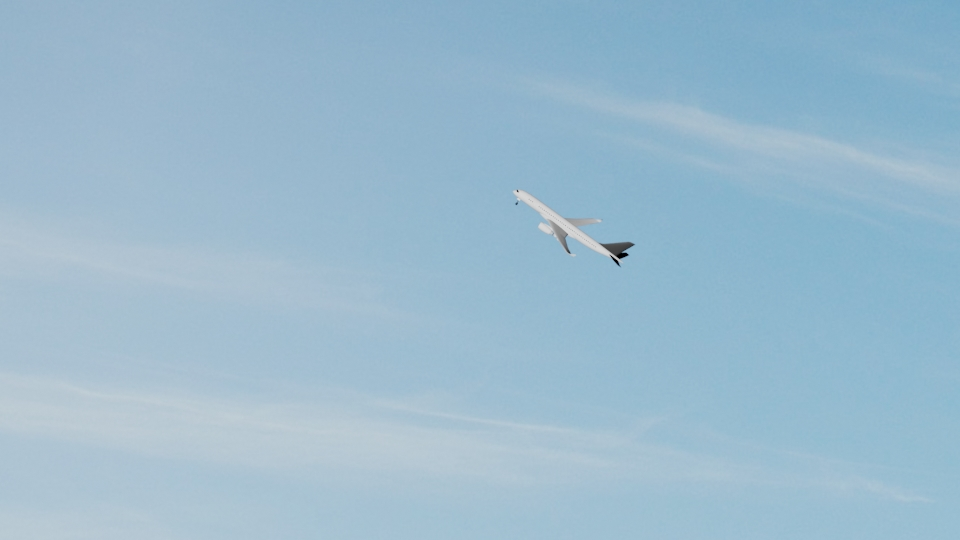plane: (510, 184, 633, 267)
